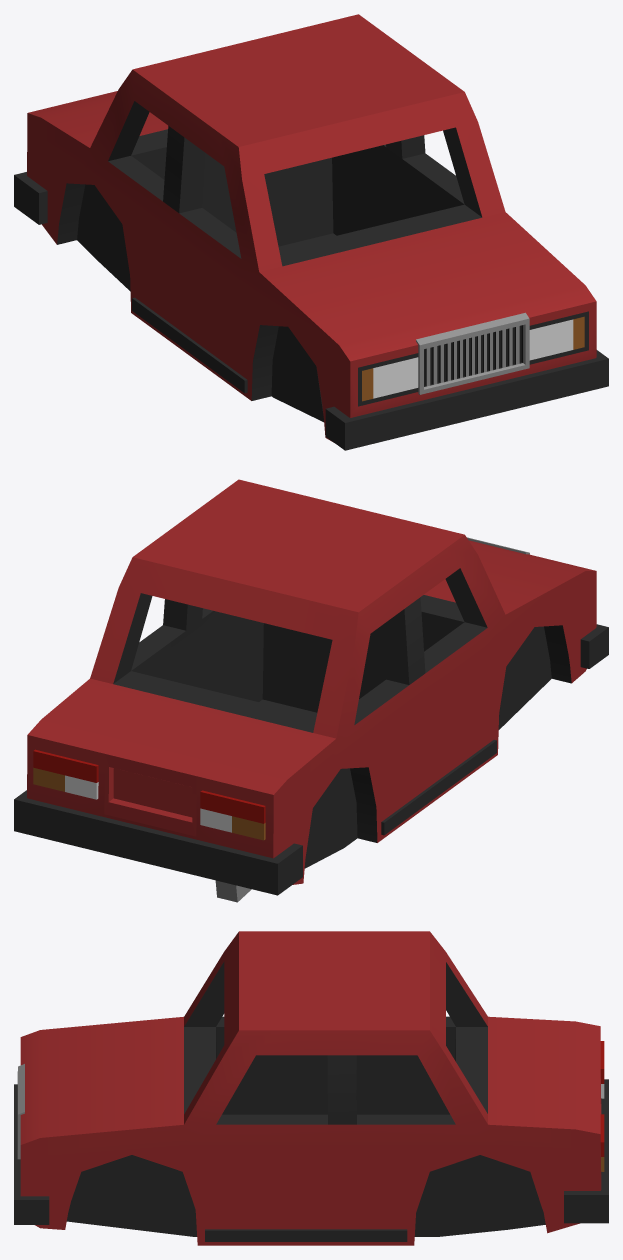
Rendered from Soviet.fbx.
3 renders of one model, top to bottom at view 1: azimuth 30°, elevation 25°; view 2: azimuth 150°, elevation 25°; view 3: azimuth 270°, elevation 25°, orthographic. The views are drawn at different scales.
Visible parts, largest first — view 1: Semka, SemkaHead; view 2: Semka, SemkaTail; view 3: Semka.
Part boxes in pixels (<box>): Semka: <box>14,14,608,450</box>; SemkaHead: <box>373,319,573,398</box>; Semka: <box>14,479,608,902</box>; SemkaTail: <box>33,749,265,823</box>; Semka: <box>14,931,608,1245</box>.
Bounding box in the file's own units: 254 × 216 × 552.
